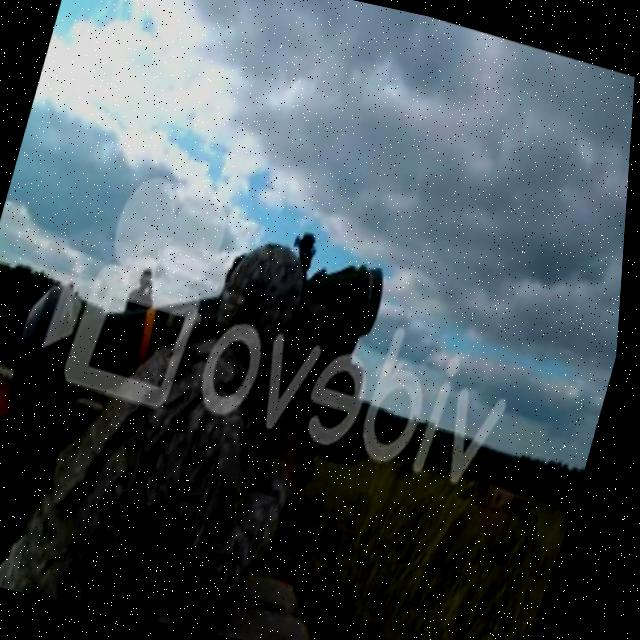rocket: (0, 173, 403, 517)
